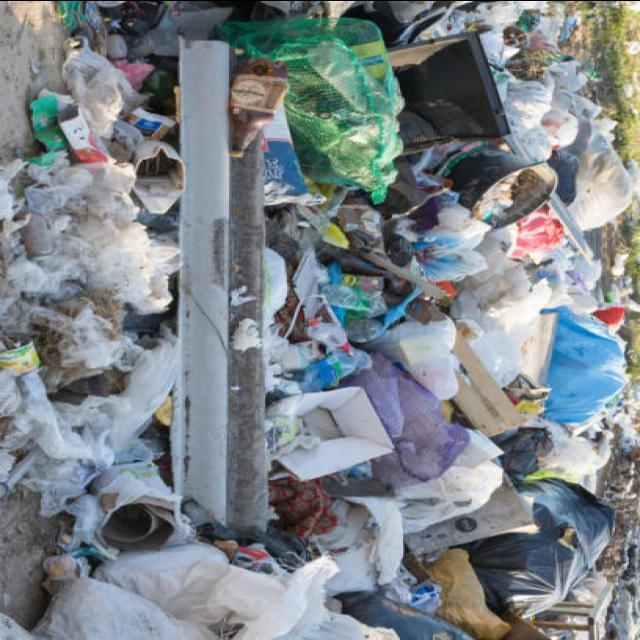Trashbag: (475, 474, 619, 632)
